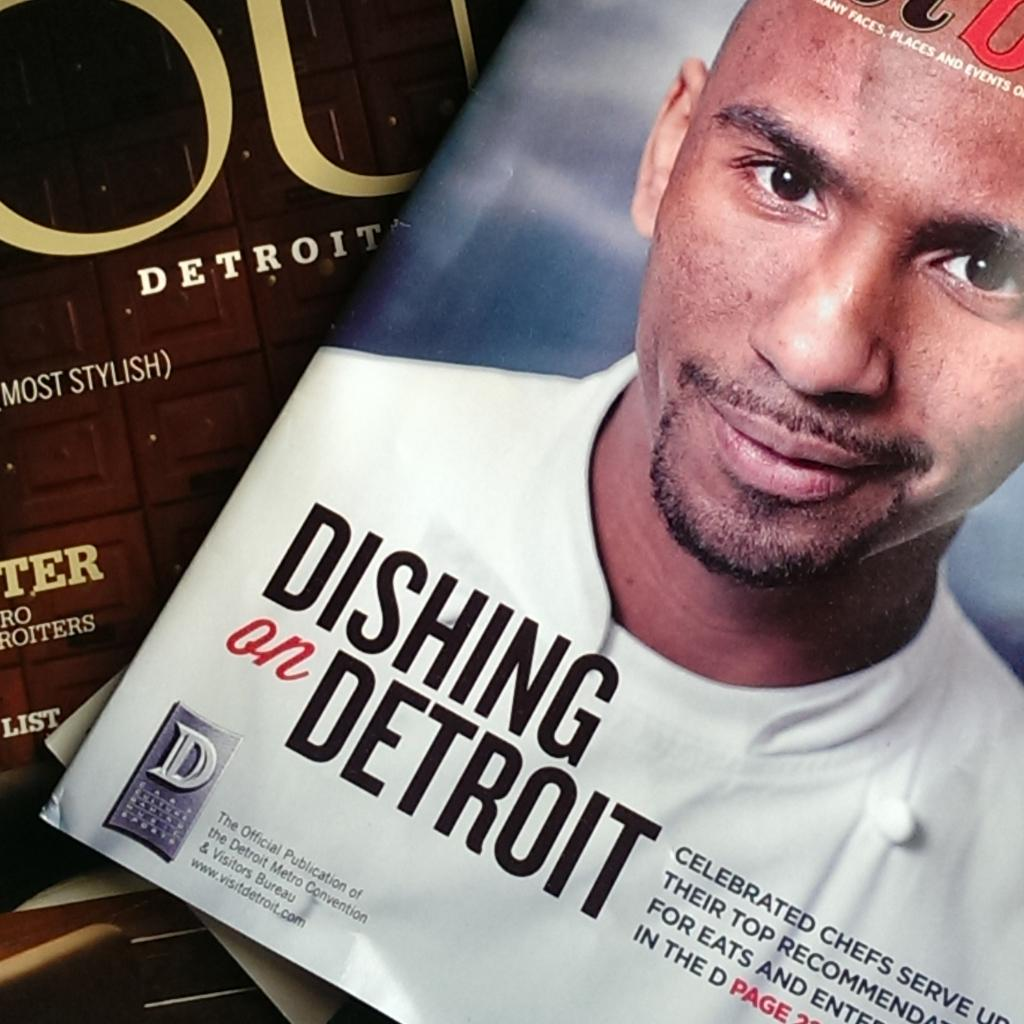Book: (21, 0, 1024, 1024)
